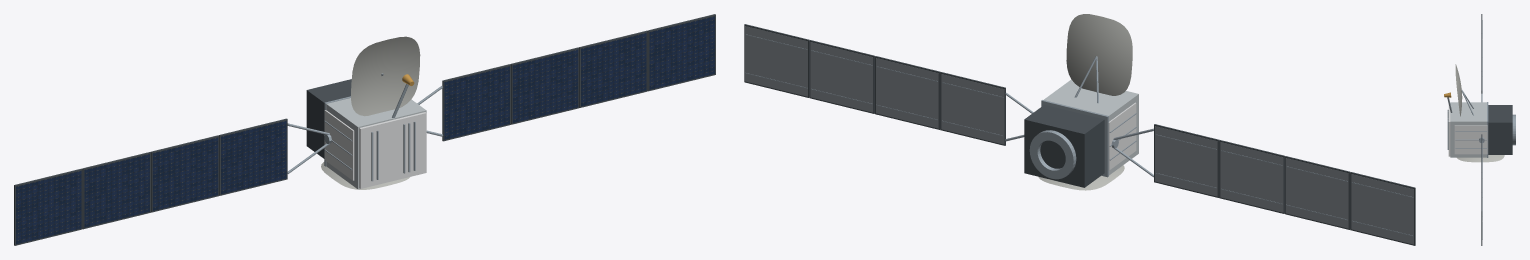
Rendered from geostar-new-dawn.glb.
The picture shows the model from 3 angles, left to right: view 1: azimuth 30°, elevation 25°; view 2: azimuth 150°, elevation 25°; view 3: azimuth 270°, elevation 25°; orthographic projection. The views are drawn at different scales.
Visible parts, largest first — view 1: Solar cell panel (×8), Solar panel frame (×8), Communications reflector, Earth-facing deck, Payload module, Service module, Radiator face, Stowed west reflector; view 2: Rear array substrate (×8), Communications reflector, Service module, Solar panel frame (×8), Payload module, Launch adapter ring, Radiator face, Module interface, Stowed west reflector; view 3: Service module, Payload module, Radiator face, Stowed west reflector, Communications reflector, Earth-facing deck, Launch adapter ring, Module interface, Solar panel frame, Deck heat pipe, Radiator seam.
Boxes of the visible parts, <box> form: Solar cell panel (×8): <box>16,16,714,244</box>; Solar panel frame (×8): <box>14,14,715,245</box>; Communications reflector: <box>351,36,420,116</box>; Earth-facing deck: <box>359,112,426,188</box>; Payload module: <box>326,98,426,189</box>; Service module: <box>306,79,351,158</box>; Radiator face: <box>324,110,354,180</box>; Stowed west reflector: <box>321,162,409,189</box>; Rear array substrate (×8): <box>745,26,1413,244</box>; Communications reflector: <box>1066,14,1132,95</box>; Service module: <box>1024,105,1104,187</box>; Solar panel frame (×8): <box>744,24,1415,245</box>; Payload module: <box>1044,79,1138,175</box>; Launch adapter ring: <box>1029,130,1076,179</box>; Radiator face: <box>1108,102,1136,170</box>; Module interface: <box>1041,100,1108,177</box>; Stowed west reflector: <box>1038,165,1124,190</box>; Service module: <box>1488,105,1512,154</box>; Payload module: <box>1450,102,1486,157</box>; Radiator face: <box>1454,125,1487,154</box>; Stowed west reflector: <box>1457,155,1504,162</box>; Communications reflector: <box>1455,64,1462,116</box>; Earth-facing deck: <box>1448,105,1450,156</box>; Launch adapter ring: <box>1512,114,1515,145</box>; Module interface: <box>1487,102,1488,157</box>; Solar panel frame: <box>1481,192,1482,245</box>; Deck heat pipe: <box>1447,121,1448,149</box>; Radiator seam: <box>1455,139,1486,140</box>.
Bounding box in the file's own units: 25.58 × 5.1 × 3.94.
Materials: 8 (1 with a texture image).
